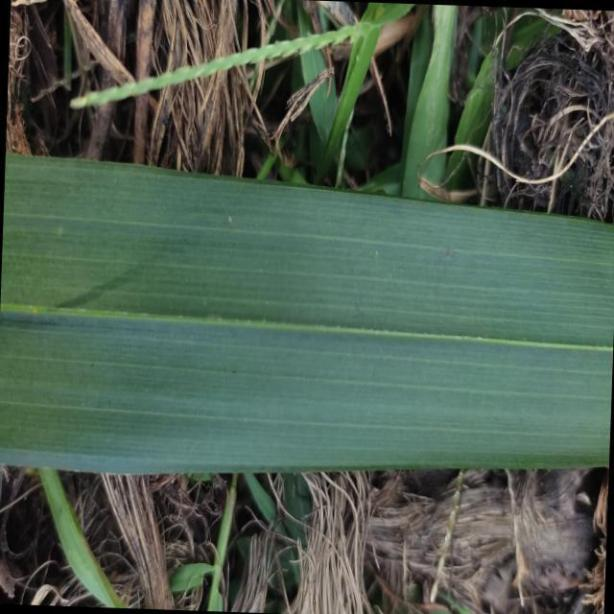Healthy: (1, 150, 614, 473)
